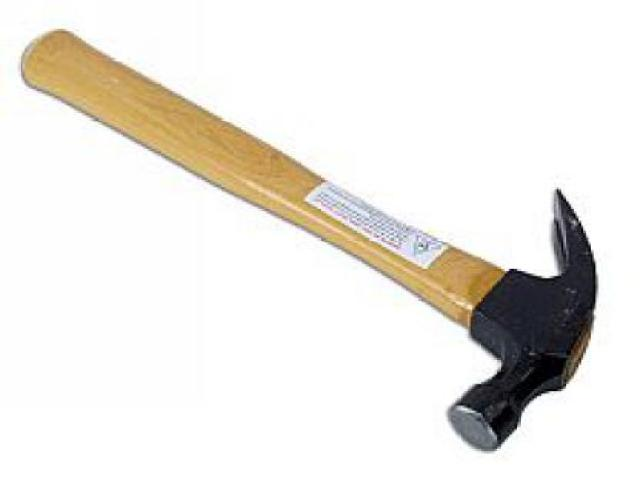Hammer: (21, 30, 595, 450)
